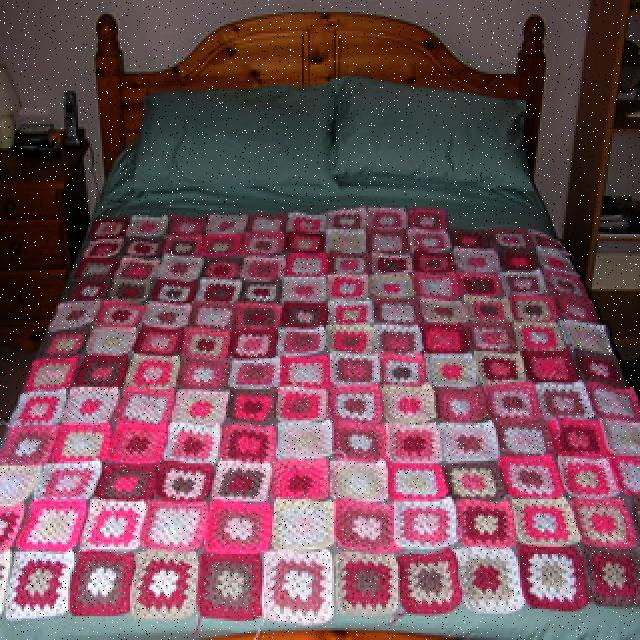bed: (27, 70, 621, 640)
